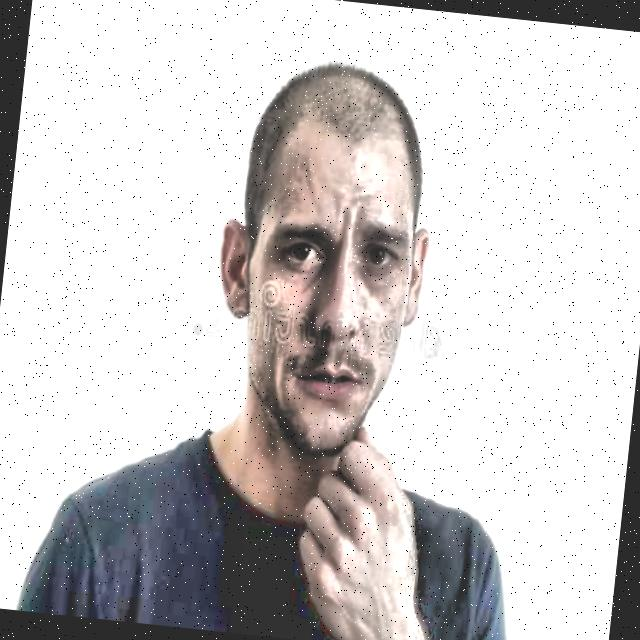sad: (187, 37, 463, 495)
